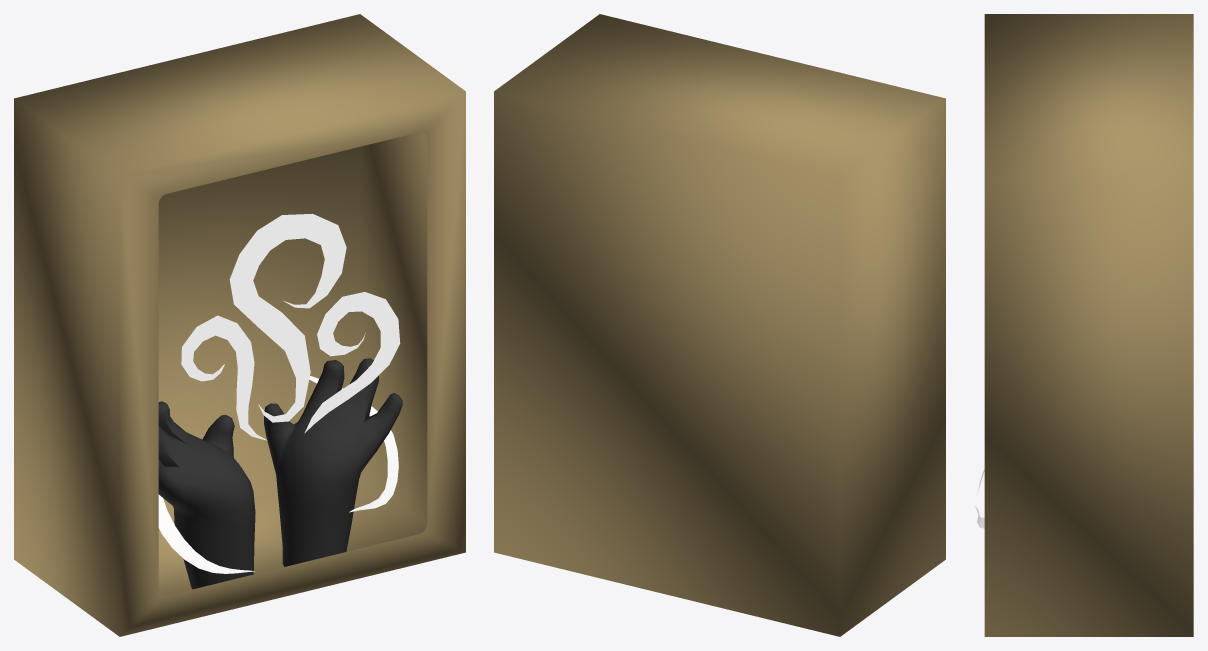
File: 22_Element_Air.gltf
3 renders of one model, left to right at view 1: azimuth 30°, elevation 25°; view 2: azimuth 150°, elevation 25°; view 3: azimuth 270°, elevation 25°, orthographic.
Parts seen in each view (by area): view 1: 22_Element_Air_bg, 22_Element_Air; view 2: 22_Element_Air_bg; view 3: 22_Element_Air_bg.
Boxes of the visible parts, bbox=[...] form: 22_Element_Air_bg: bbox=[14, 14, 465, 636]; 22_Element_Air: bbox=[158, 213, 402, 589]; 22_Element_Air_bg: bbox=[494, 14, 945, 636]; 22_Element_Air_bg: bbox=[984, 14, 1193, 636].
Size of the model in its own units: 2.76 by 3.51 by 1.53.
2 materials, 2 textured.
